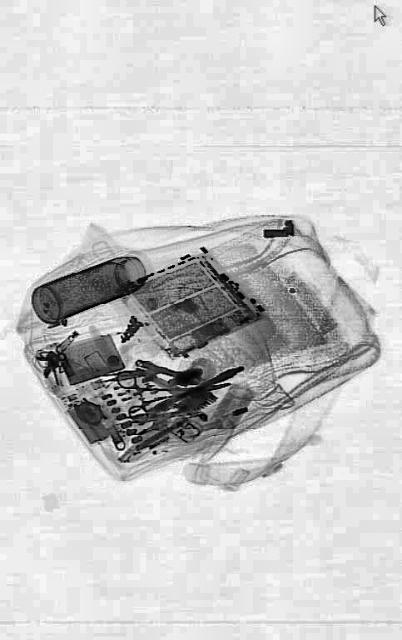Scissors: (114, 354, 232, 428)
